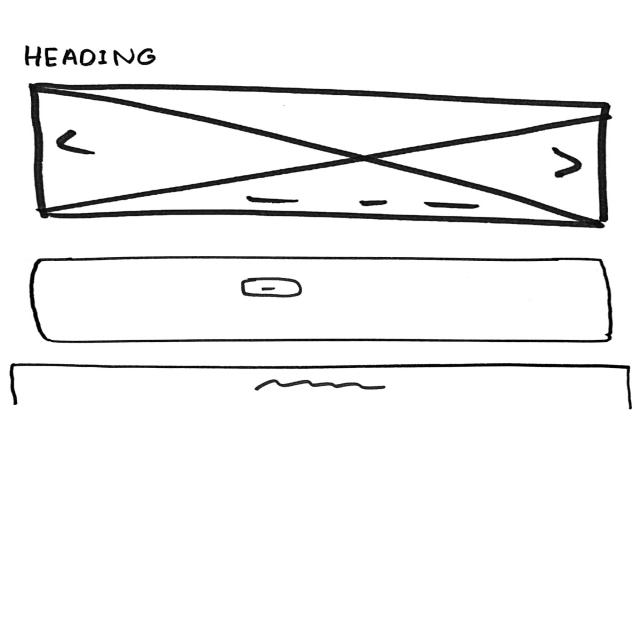container: (32, 256, 616, 344)
icon-button: (239, 278, 306, 299)
image: (28, 83, 611, 231)
label: (23, 45, 160, 68)
text: (257, 379, 389, 395)
